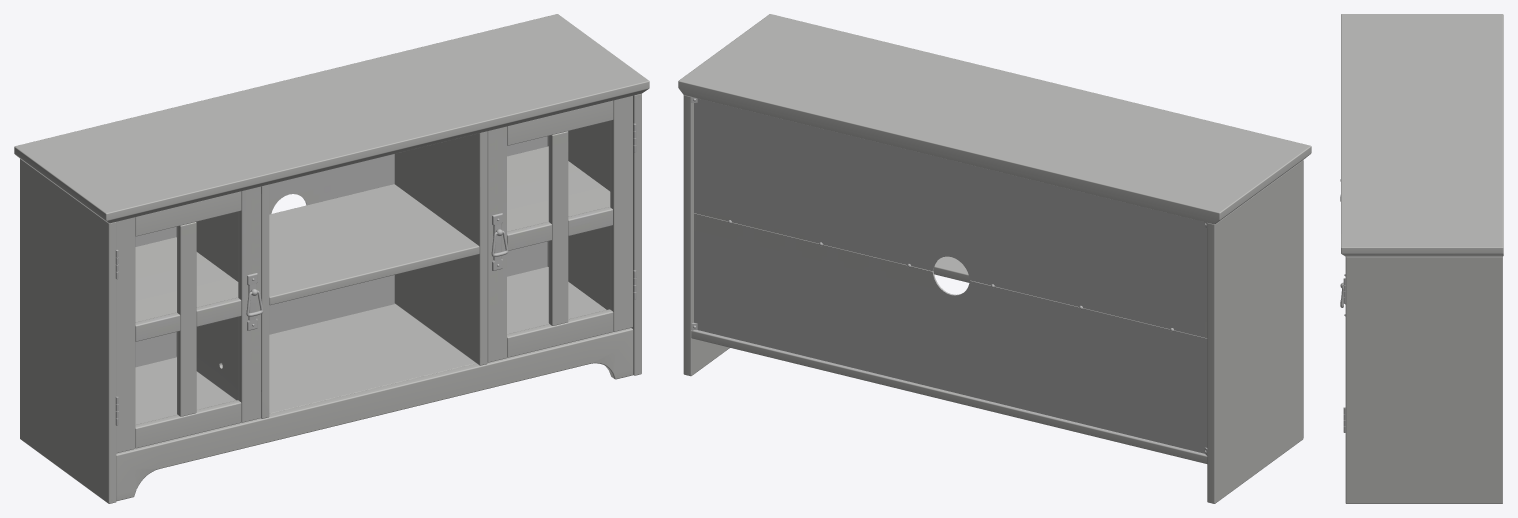
The model's file is abo-B07DBFFHXP.glb.
3 views of the same model, side by side, from view 1: azimuth 30°, elevation 25°; view 2: azimuth 150°, elevation 25°; view 3: azimuth 270°, elevation 25° (orthographic). The views are drawn at different scales.
Size of the model in its own units: 1.17 by 0.603 by 0.344.
Materials: 1 (1 with a texture image).
